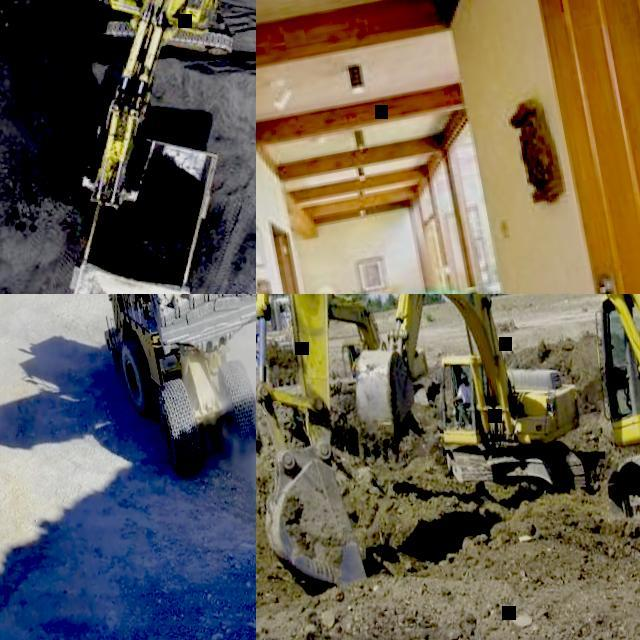helmet: (458, 372, 468, 379)
